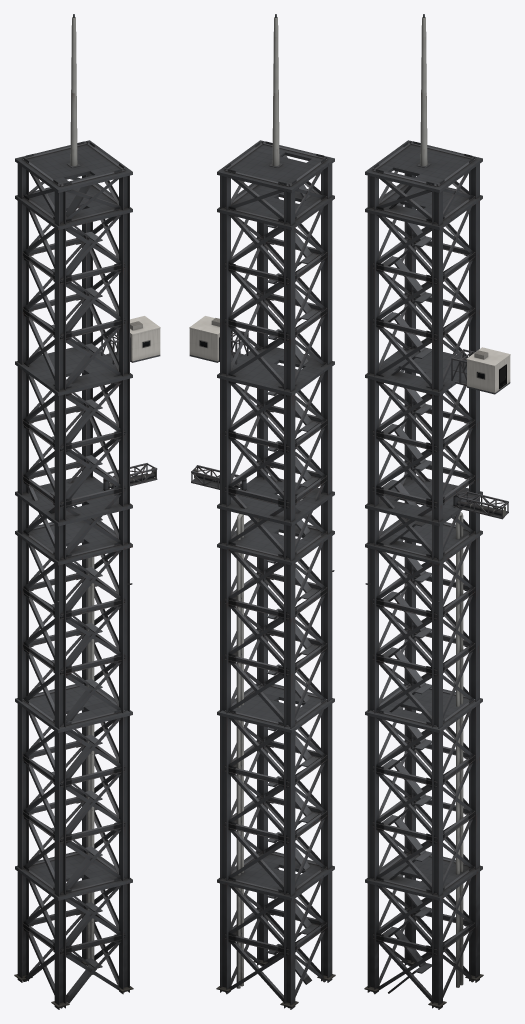
File: TWR.fbx
3 views of the same model, side by side, from view 1: azimuth 30°, elevation 25°; view 2: azimuth 150°, elevation 25°; view 3: azimuth 330°, elevation 25° (orthographic).
Visible parts, largest first — view 1: TWR_Lattice_C, TWR_Lattice_A, TWR_Lattice_B, TWR_CrewArm, TWR_FuelArm; view 2: TWR_Lattice_A, TWR_Lattice_C, TWR_Lattice_B, TWR_CrewArm, TWR_FuelArm; view 3: TWR_Lattice_A, TWR_Lattice_C, TWR_Lattice_B, TWR_CrewArm, TWR_FuelArm.
Boxes of the visible parts, left/top/right/bottom form: TWR_Lattice_C: left=15, top=14, right=132, bottom=450; TWR_Lattice_A: left=14, top=684, right=133, bottom=1009; TWR_Lattice_B: left=15, top=404, right=132, bottom=728; TWR_CrewArm: left=101, top=316, right=160, bottom=364; TWR_FuelArm: left=103, top=463, right=157, bottom=490; TWR_Lattice_A: left=216, top=683, right=335, bottom=1009; TWR_Lattice_C: left=217, top=14, right=334, bottom=450; TWR_Lattice_B: left=217, top=404, right=334, bottom=728; TWR_CrewArm: left=189, top=316, right=248, bottom=364; TWR_FuelArm: left=191, top=465, right=246, bottom=490; TWR_Lattice_A: left=364, top=683, right=483, bottom=1009; TWR_Lattice_C: left=365, top=14, right=482, bottom=450; TWR_Lattice_B: left=365, top=404, right=482, bottom=728; TWR_CrewArm: left=451, top=347, right=510, bottom=394; TWR_FuelArm: left=453, top=491, right=508, bottom=519.
Bounding box in the file's own units: 13.35 × 105 × 8.5.
Materials: 5 (5 with a texture image).
